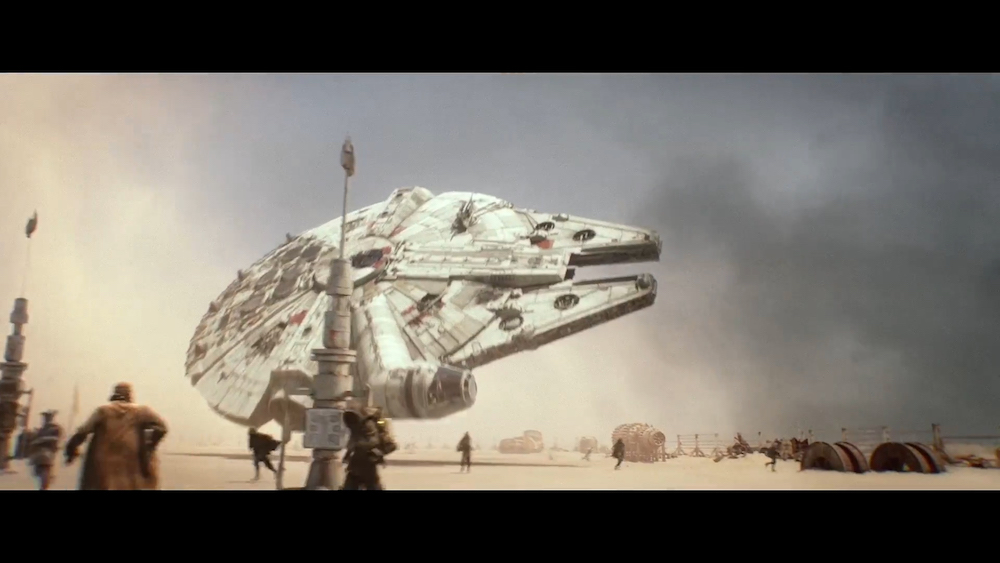Millennium Falcon: (187, 185, 662, 434)
